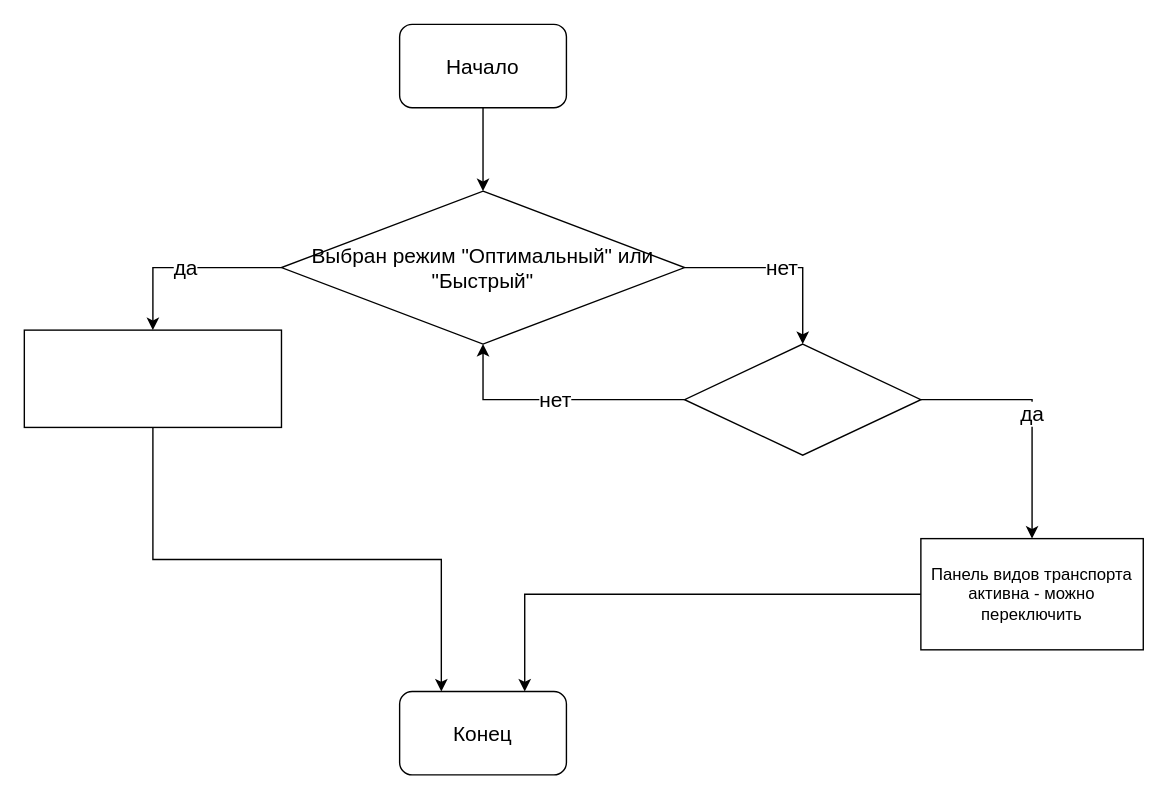
The diagram is 1168 pixels wide and 799 high, and some of its shapes have lost their labels. The shapes that lost their labels are listed below. From the top down, each one's centre as x and y in pixels, then its label:
point (152, 378): Панель видов транспорта неактивна - автоматический выбор транспорта
point (802, 399): Выбран режим "Свой" ?
